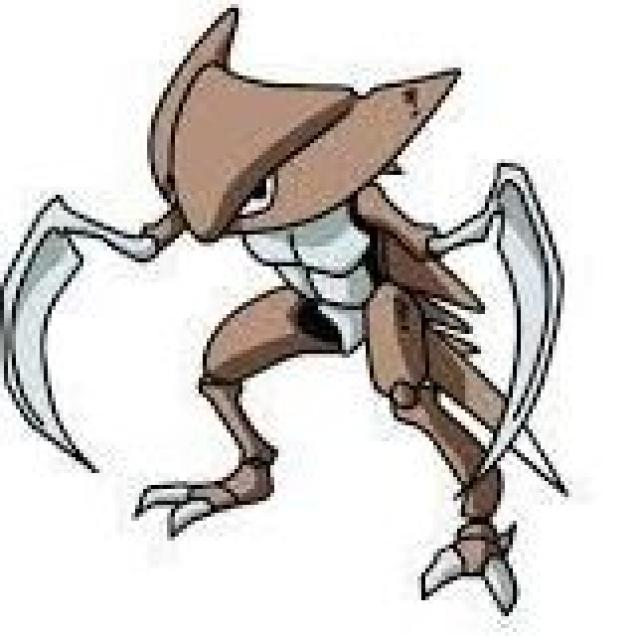Kabutops: (26, 61, 555, 538)
